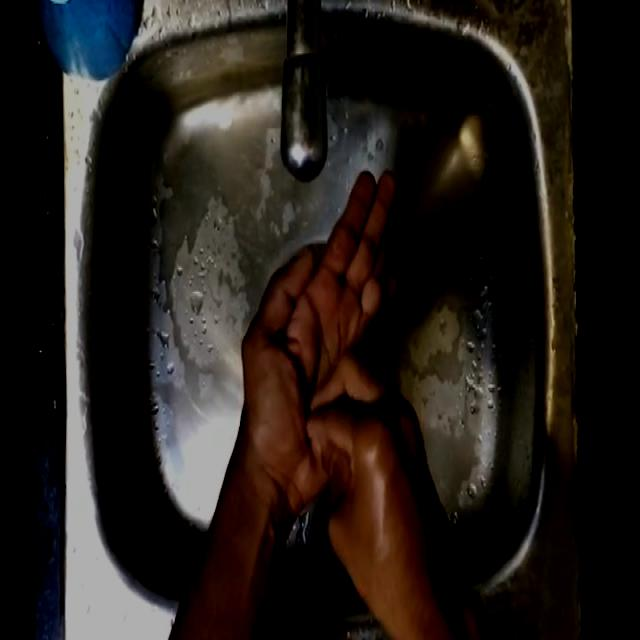step_6: (232, 160, 438, 551)
